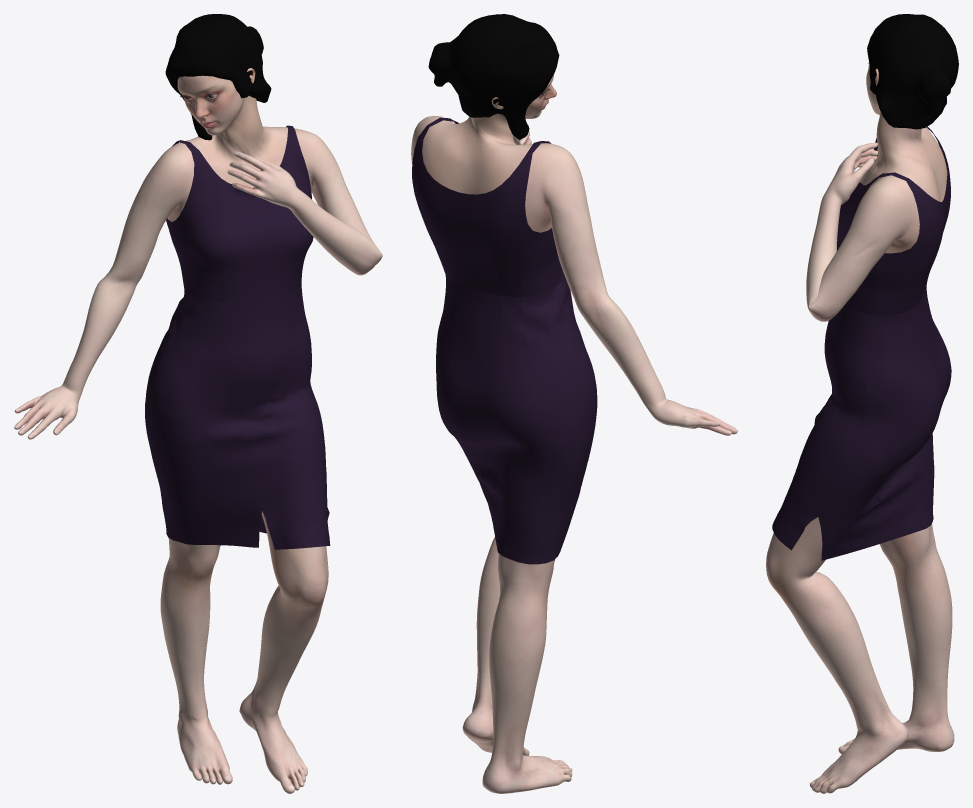
The model's file is Dynamic_2.obj.
3 renders of one model, left to right at view 1: azimuth 30°, elevation 25°; view 2: azimuth 150°, elevation 25°; view 3: azimuth 270°, elevation 25°, orthographic. The views are drawn at different scales.
Bounding box in the file's own units: 813 × 1767 × 408.
